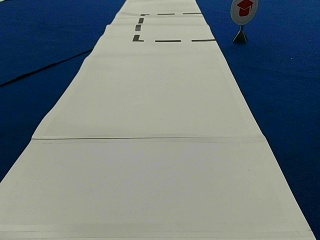school: (229, 1, 258, 24)
